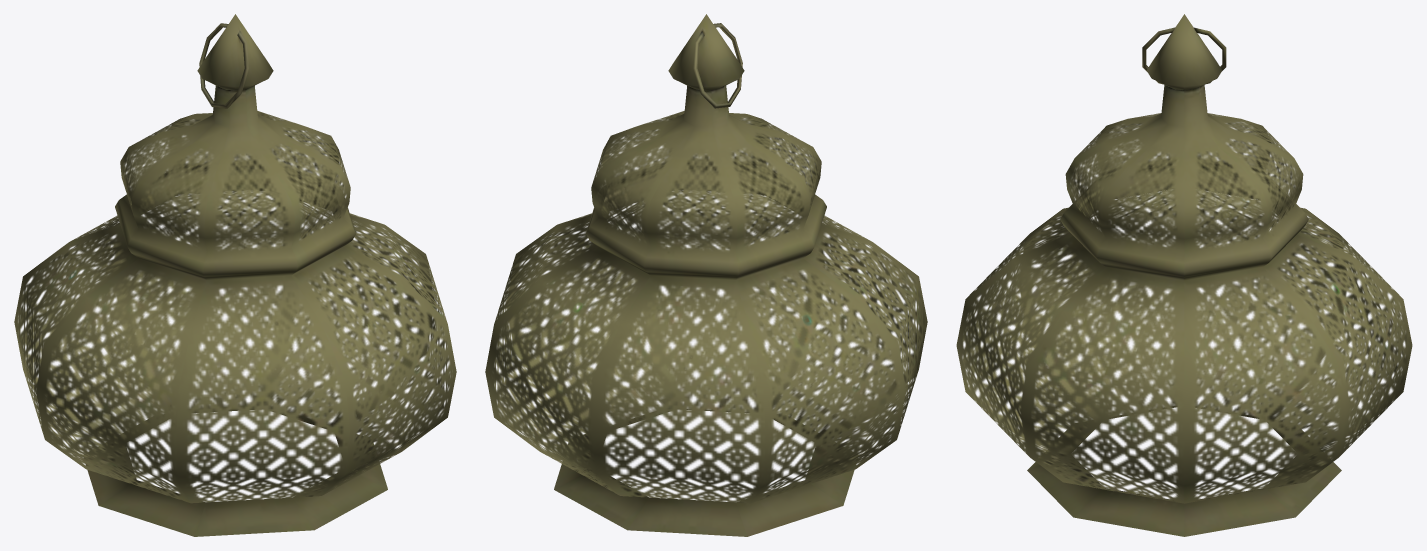
Rendered from lanterna.glb.
3 renders of one model, left to right at view 1: azimuth 30°, elevation 25°; view 2: azimuth 150°, elevation 25°; view 3: azimuth 270°, elevation 25°, orthographic.
Visible parts, largest first — view 1: Object_2; view 2: Object_2; view 3: Object_2.
Part boxes in pixels (box(x1,y1,x2,y2)): Object_2: box(14, 14, 456, 536); Object_2: box(485, 14, 927, 536); Object_2: box(956, 14, 1412, 536).
Size of the model in its own units: 2.02 by 2.23 by 2.02.
Materials: 1 (1 with a texture image).
